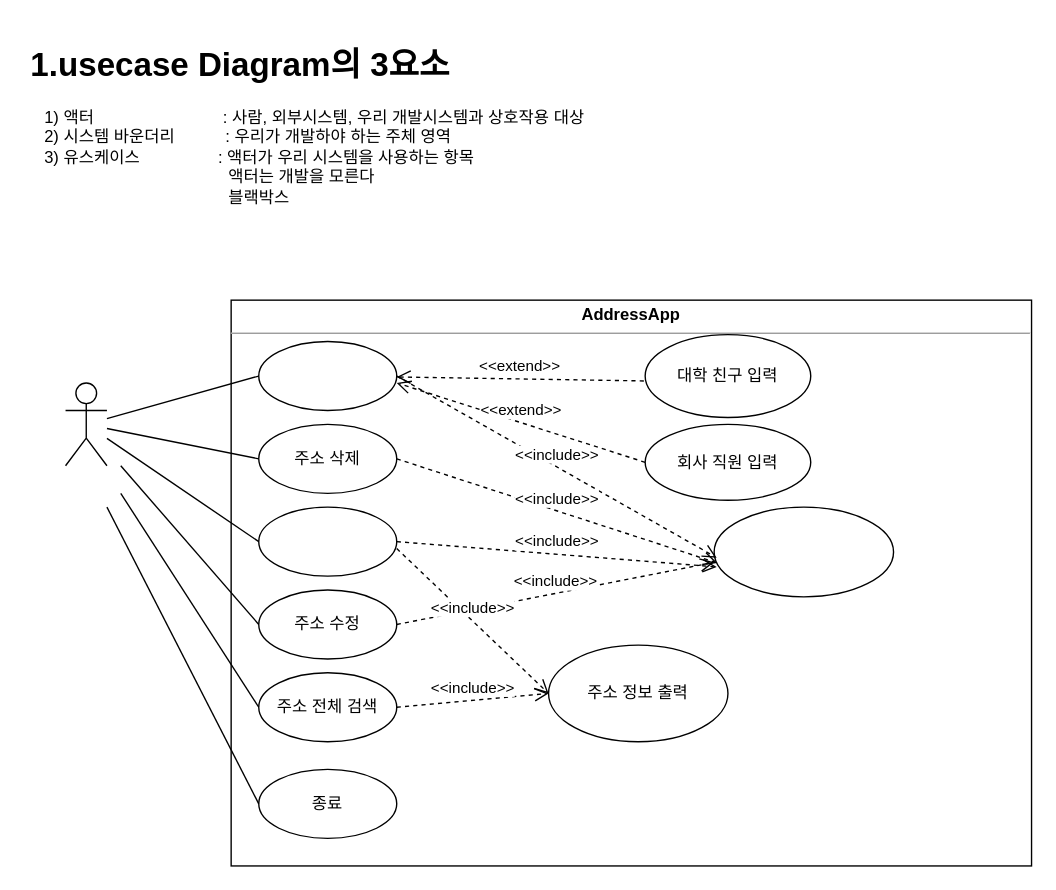
The diagram is 1056 pixels wide and 890 high, and some of its shapes have lost their labels. The shapes that lost their labels are listed below. From the top down, each one's centre as x and y in pixels, then its label:
point 327,375: 주소 입력
point 85,424: 사용자
point 327,541: 주소 검색
point 803,551: 대상 정보 입력
